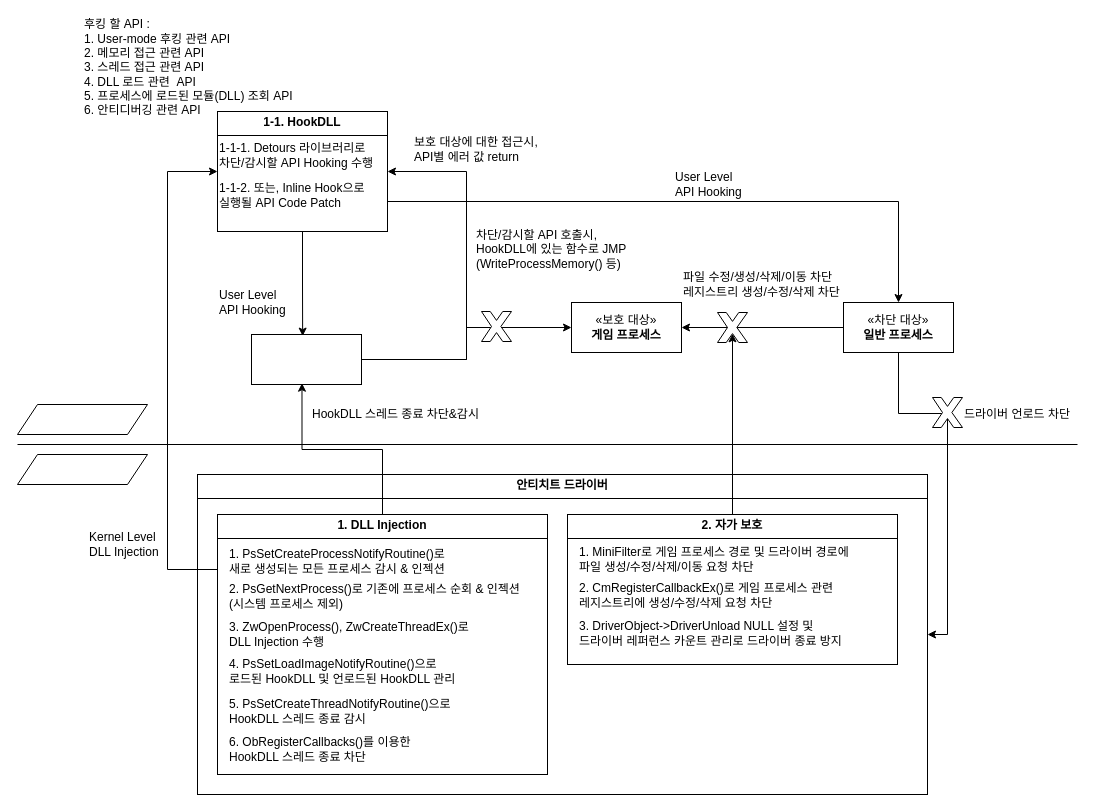
Some shapes in this 1100 by 812 pixel diagram are drawn without their labels. Each missing label, with the centre of its shape:
"Kernel (Ring 0)" belongs at pixel 82 469.
"User (Ring 3)" belongs at pixel 82 419.
"«차단 대상» 게임 핵 프로세스" belongs at pixel 306 359.
